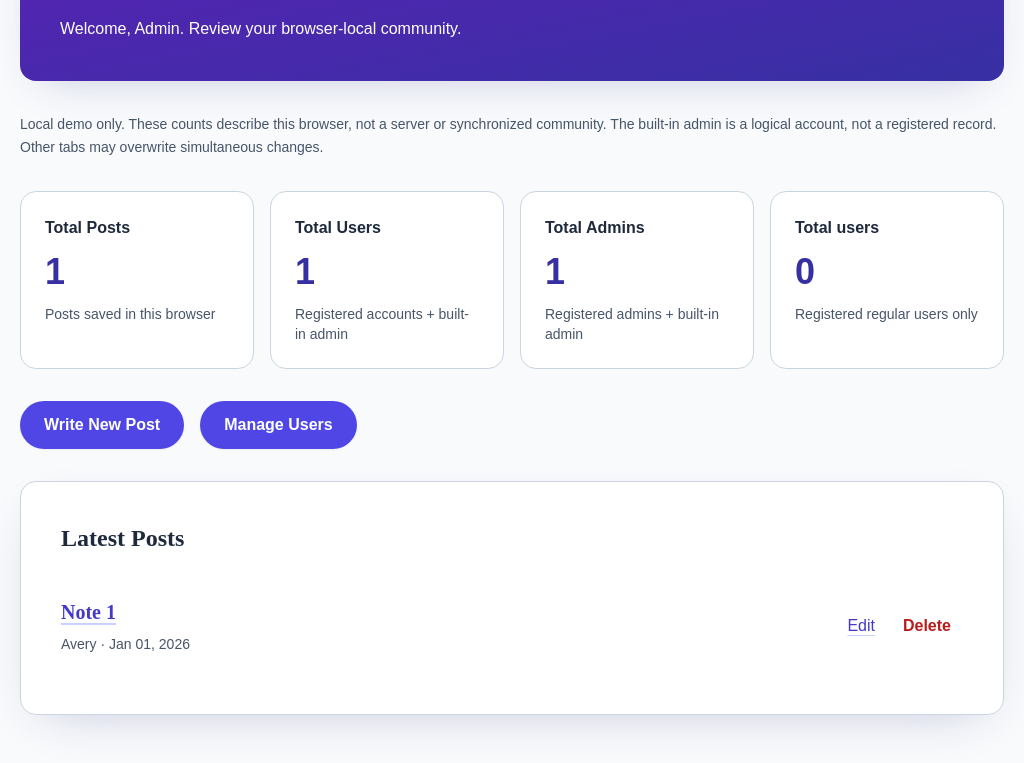
Test case: dashboard post deletion handles success without false success
(page scrolled)
Step 1. Click the button with aria-label "Delete post: Note 1" → (927, 626), box [891,604,963,648]
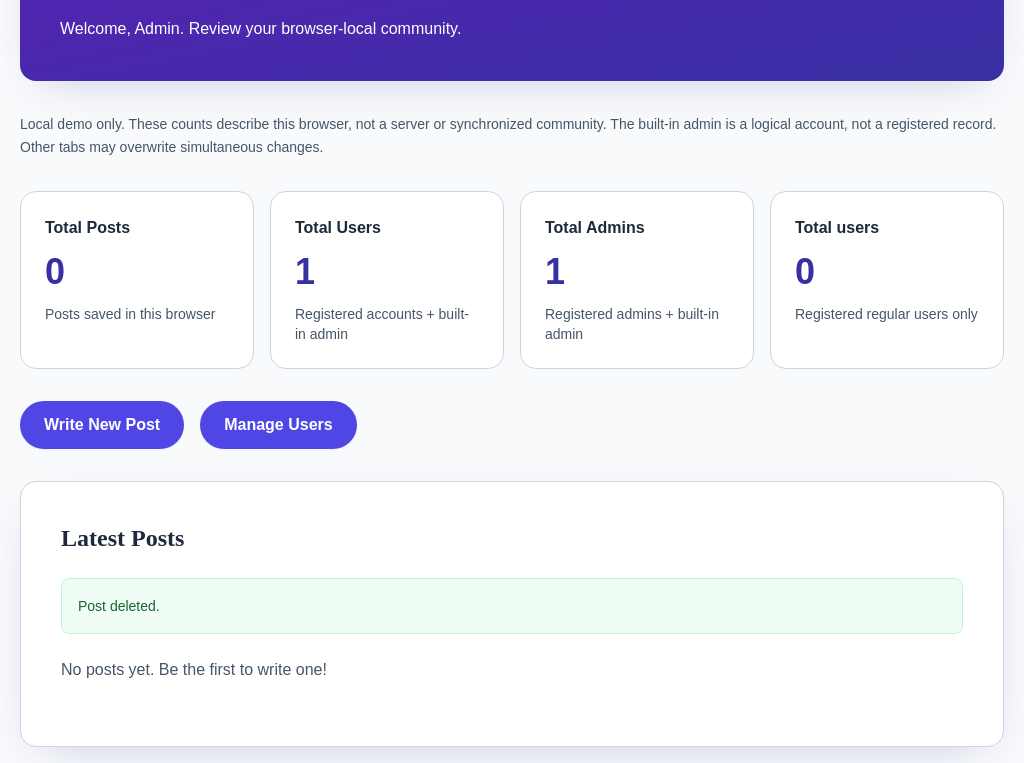
Expected: the message reads "Post deleted.", [78,598,160,614]
Expected: the text "0" below "Total Posts" is shown, [45,250,65,292]
